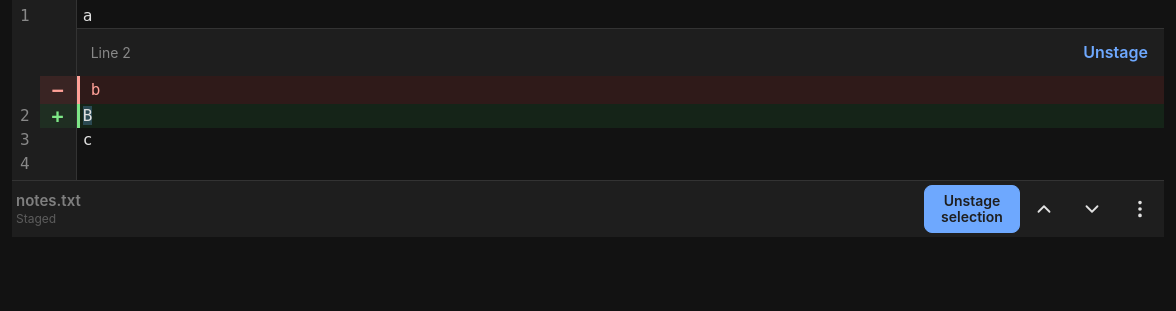
unstaging › explains a refusal because the staged change is different now
Expected: the field with class "cm-content" is shown, [77,0,1164,180]
What coordinates should you click on to do the following:
click the button "Unstage selection"
I would click on:
 (972, 209)
Its box is [924,185,1020,233].
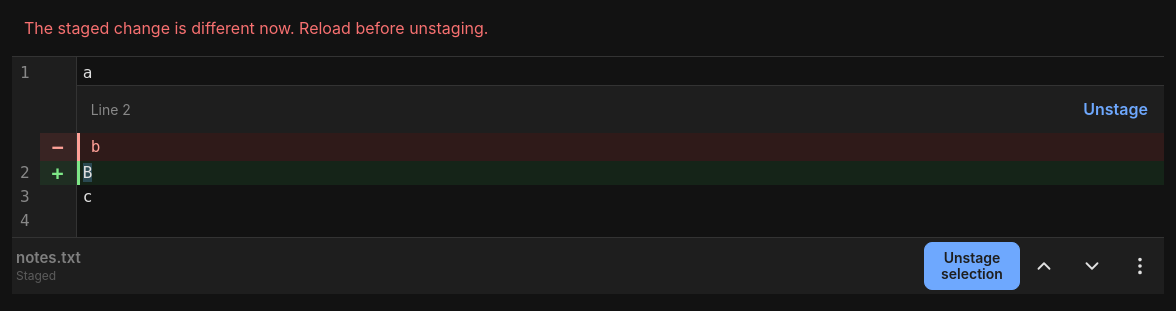
Result: the text "The staged change is different now. Reload before unstaging." is shown at [12,0,1164,57]
